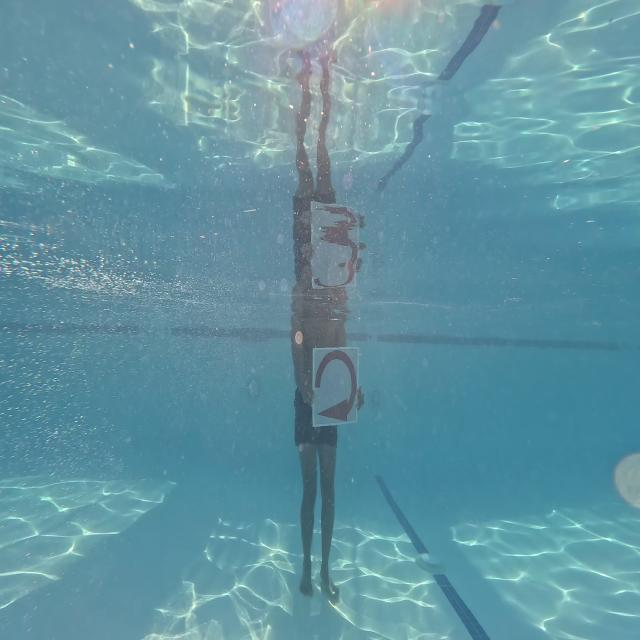red_side: (313, 346, 357, 434)
